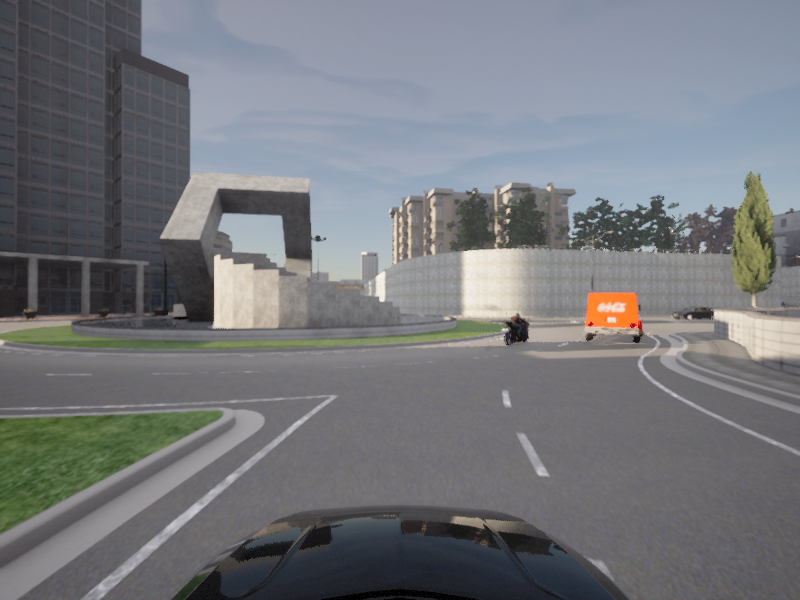vehicle: (581, 292, 643, 345), (495, 312, 536, 347)
